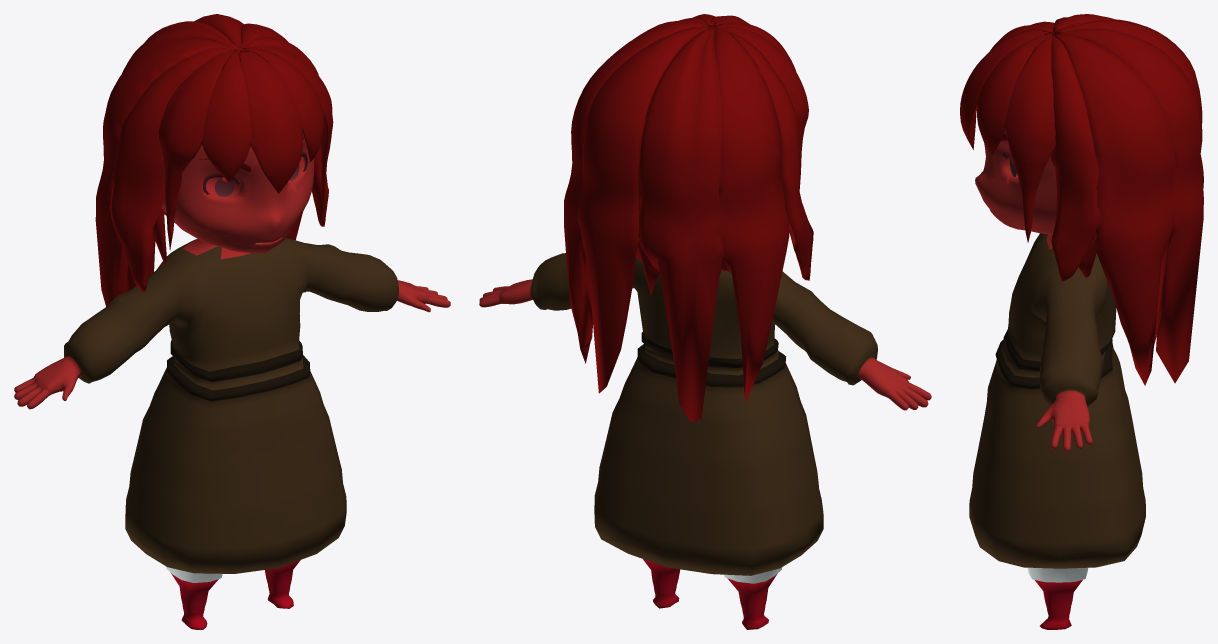
The model's file is Vyre(F).fbx.
3 views of the same model, side by side, from view 1: azimuth 30°, elevation 25°; view 2: azimuth 150°, elevation 25°; view 3: azimuth 270°, elevation 25° (orthographic). The views are drawn at different scales.
Visible parts, largest first — view 1: friskandchara_reference; view 2: friskandchara_reference; view 3: friskandchara_reference.
Part boxes in pixels (left/top/right/bottom): friskandchara_reference: left=14, top=14, right=450, bottom=629; friskandchara_reference: left=479, top=14, right=931, bottom=629; friskandchara_reference: left=960, top=14, right=1203, bottom=629.
Size of the model in its own units: 3221 by 4118 by 1568.
